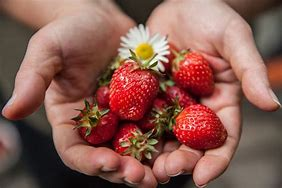Fresa: (108, 59, 159, 123), (172, 101, 230, 152), (171, 48, 217, 99), (75, 102, 118, 146), (115, 121, 150, 163)
